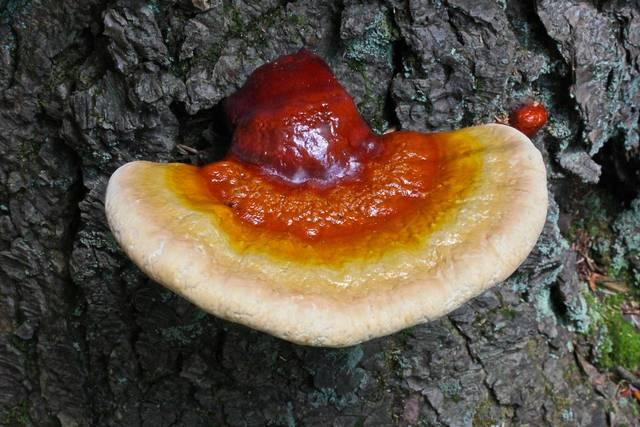Non-edible Mushroom: (103, 47, 550, 349)
